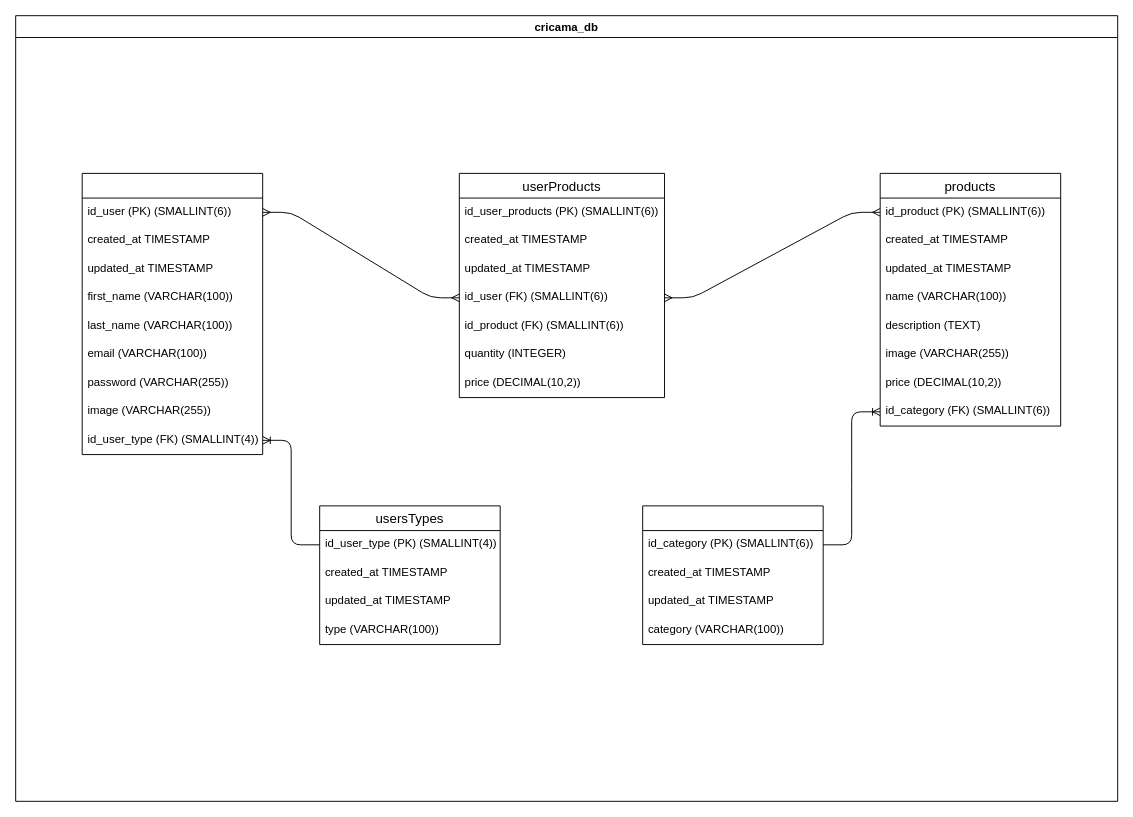
Some shapes in this 1133 by 817 pixel diagram are drawn without their labels. The box of each missing label's shape, as (x1, y1, x2, y2) in pixels:
categories: (642, 505, 823, 645)
users: (81, 172, 263, 455)
